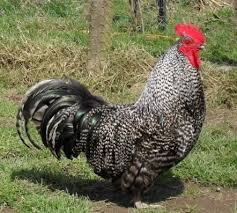Gà/Chicken: (15, 13, 228, 208)
